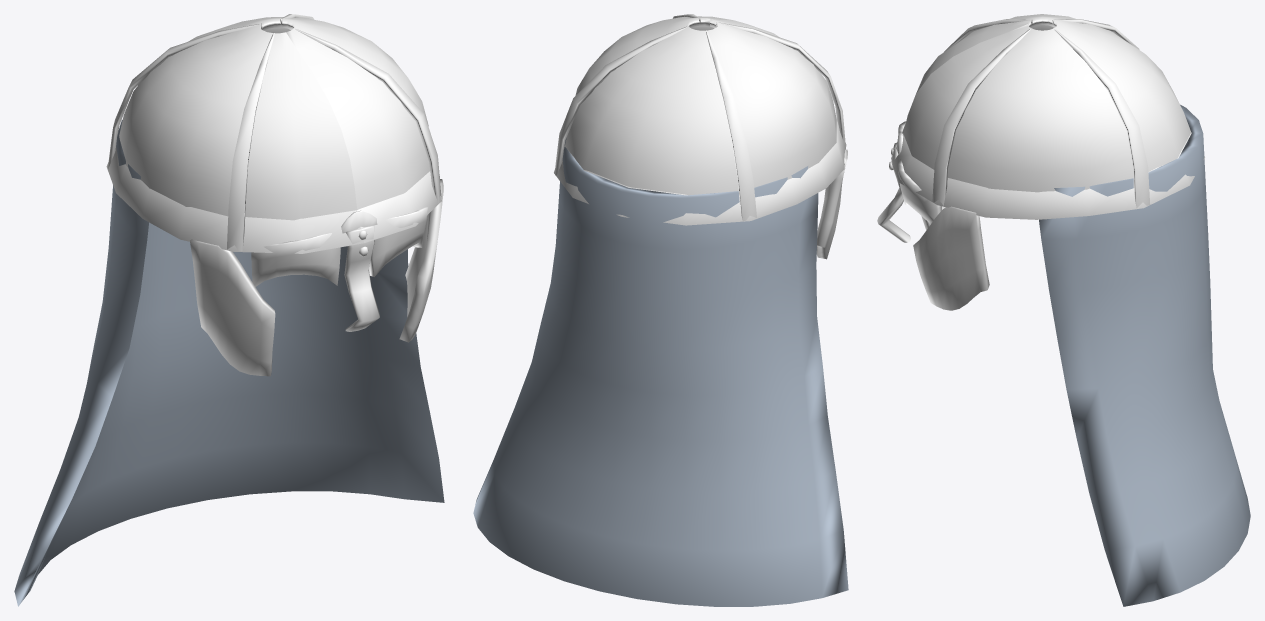
The model's file is helm-huscarl-spectacle.glb.
The picture shows the model from 3 angles, left to right: view 1: azimuth 30°, elevation 25°; view 2: azimuth 150°, elevation 25°; view 3: azimuth 270°, elevation 25°; orthographic projection. The views are drawn at different scales.
Visible parts, largest first — view 1: helm-huscarl-spectacle; view 2: helm-huscarl-spectacle; view 3: helm-huscarl-spectacle.
Part boxes in pixels (x1,y1,x2,y2): helm-huscarl-spectacle: [14, 14, 444, 606]; helm-huscarl-spectacle: [473, 14, 848, 606]; helm-huscarl-spectacle: [877, 14, 1250, 606].
Size of the model in its own units: 0.3753 by 0.4733 by 0.3256.
